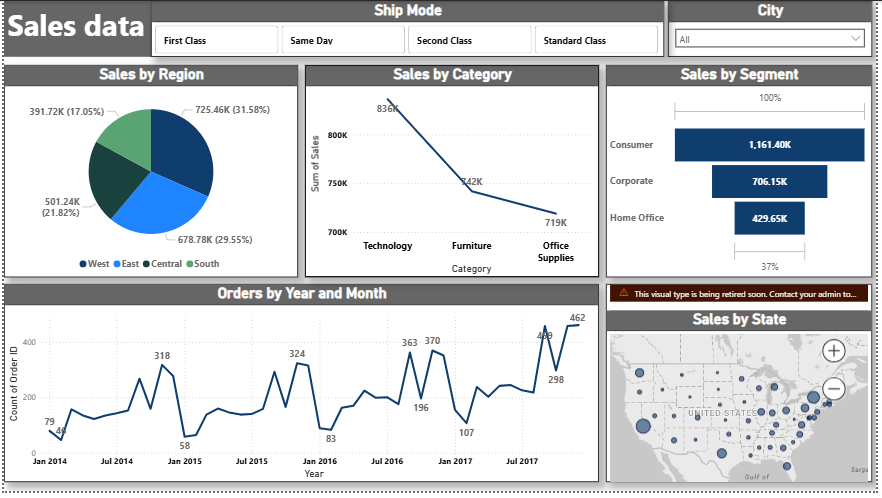

This screenshot's page, from the dashboard's own definition file:
{"tool":"powerbi","page":{"name":"Page 1","canvas":[1280,720],"ordinal":0},"visuals":[{"type":"pieChart","title":"Sales by Region","fields":{"Y":["Sum(Orders.Sales)"],"Category":["Orders.Region"]},"box":[0,94,432,311.5],"z":0},{"type":"lineChart","title":"Orders by Year and Month","fields":{"Y":["CountNonNull(Orders.Order ID)"],"Category":["Orders.Order Date.Variation.Date Hierarchy.Year","Orders.Order Date.Variation.Date Hierarchy.Month"]},"box":[0,415.8,874.3,290.9],"z":1000},{"type":"lineChart","title":"Sales by Category","fields":{"Category":["Orders.Category"],"Y":["Sum(Orders.Sales)"]},"box":[442.3,94,432,311.5],"z":2000},{"type":"funnel","title":"Sales by Segment","fields":{"Category":["Orders.Segment"],"Y":["Sum(Orders.Sales)"]},"box":[884.6,94,390.9,311.5],"z":3000},{"type":"map","title":"Sales by State","fields":{"Category":["Orders.State"],"Size":["Sum(Orders.Sales)"]},"box":[884.6,415.8,390.9,290.9],"z":4000},{"type":"textbox","box":[0,0,216,82.3],"z":5000},{"type":"slicer","title":"City","fields":{"Values":["Orders.City"]},"box":[975.7,0,299.8,82.3],"z":6000},{"type":"advancedSlicerVisual","fields":{"Values":["Orders.Ship Mode"]},"box":[216,0,753.8,82.3],"z":7000}]}

Visuals, with their boxes in screenshot pixels (x1, y1, x2, y2), scaled from the page's 1280x720 canvas onto the 882x498 screenshot:
"Sales by Region" pieChart: Rect(0, 65, 298, 280)
"Orders by Year and Month" lineChart: Rect(0, 288, 602, 489)
"Sales by Category" lineChart: Rect(305, 65, 602, 280)
"Sales by Segment" funnel: Rect(610, 65, 879, 280)
"Sales by State" map: Rect(610, 288, 879, 489)
textbox: Rect(0, 0, 149, 57)
"City" slicer: Rect(672, 0, 879, 57)
advancedSlicerVisual - Orders.Ship Mode: Rect(149, 0, 668, 57)
